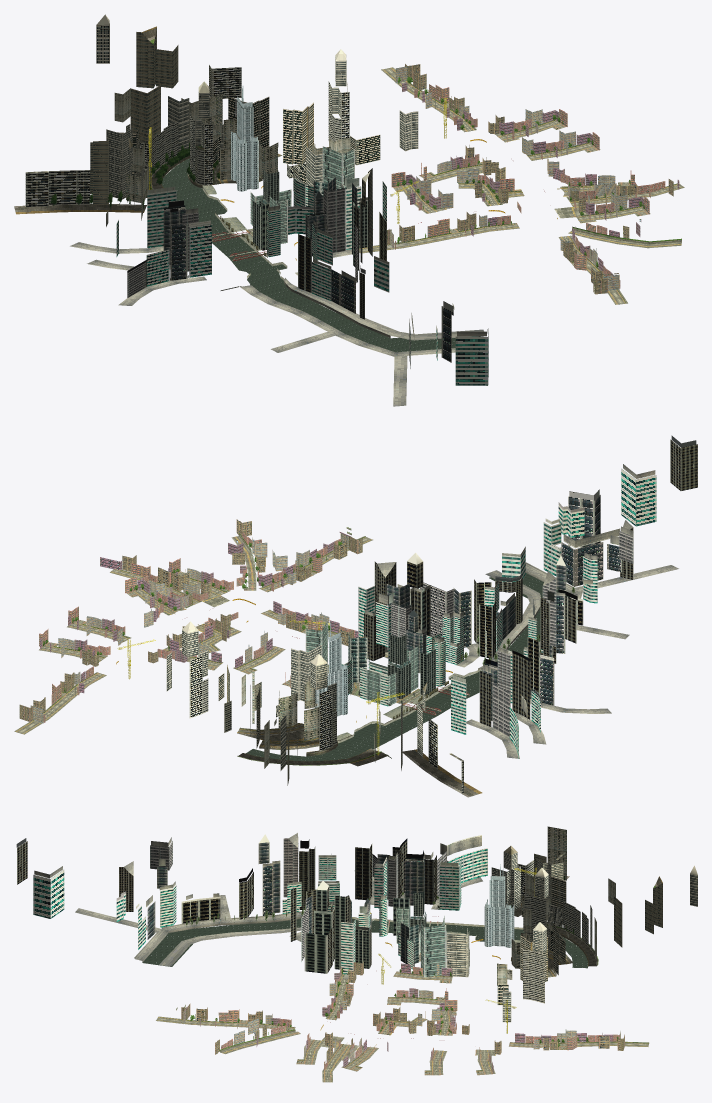
The model's file is track-US_C2_V1_env.glb.
3 views of the same model, one above another, from view 1: azimuth 30°, elevation 25°; view 2: azimuth 150°, elevation 25°; view 3: azimuth 270°, elevation 25° (orthographic). The views are drawn at different scales.
Parts seen in each view (by area): view 1: US_C2_V1_env; view 2: US_C2_V1_env; view 3: US_C2_V1_env.
Part boxes in pixels (x1,y1,x2,y2): US_C2_V1_env: [14, 14, 684, 406]; US_C2_V1_env: [14, 435, 697, 797]; US_C2_V1_env: [16, 826, 697, 1082].
Bounding box in the file's own units: 2796 × 522 × 3627.
11 materials, 11 textured.
